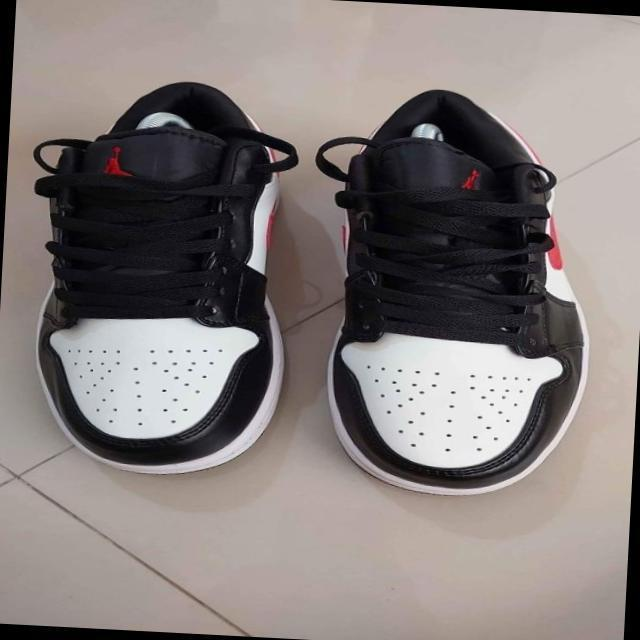nike fake jordan 1: (298, 84, 618, 508), (23, 74, 311, 482)
